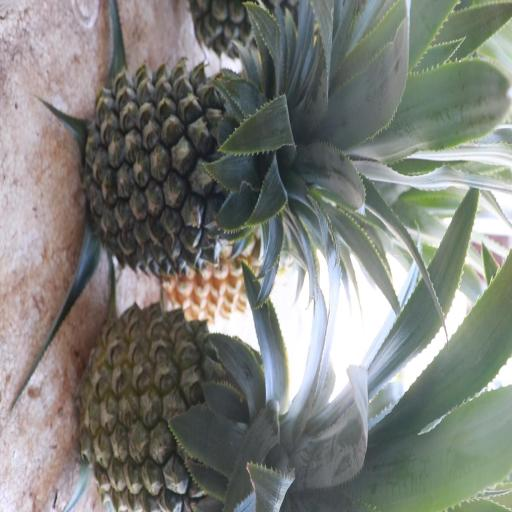------------------------------: (78, 308, 287, 512)
